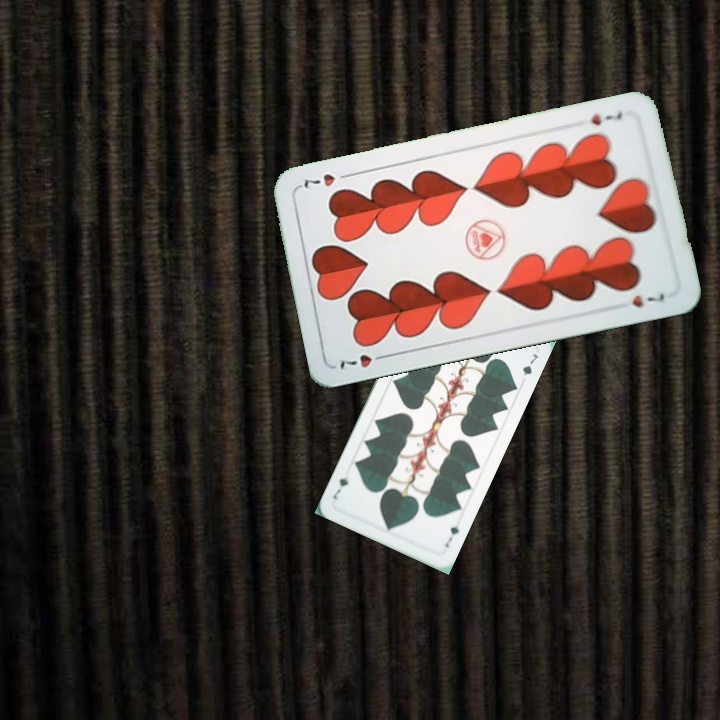G7: (441, 522, 462, 550)
H7: (335, 350, 392, 371), (586, 108, 625, 128)
